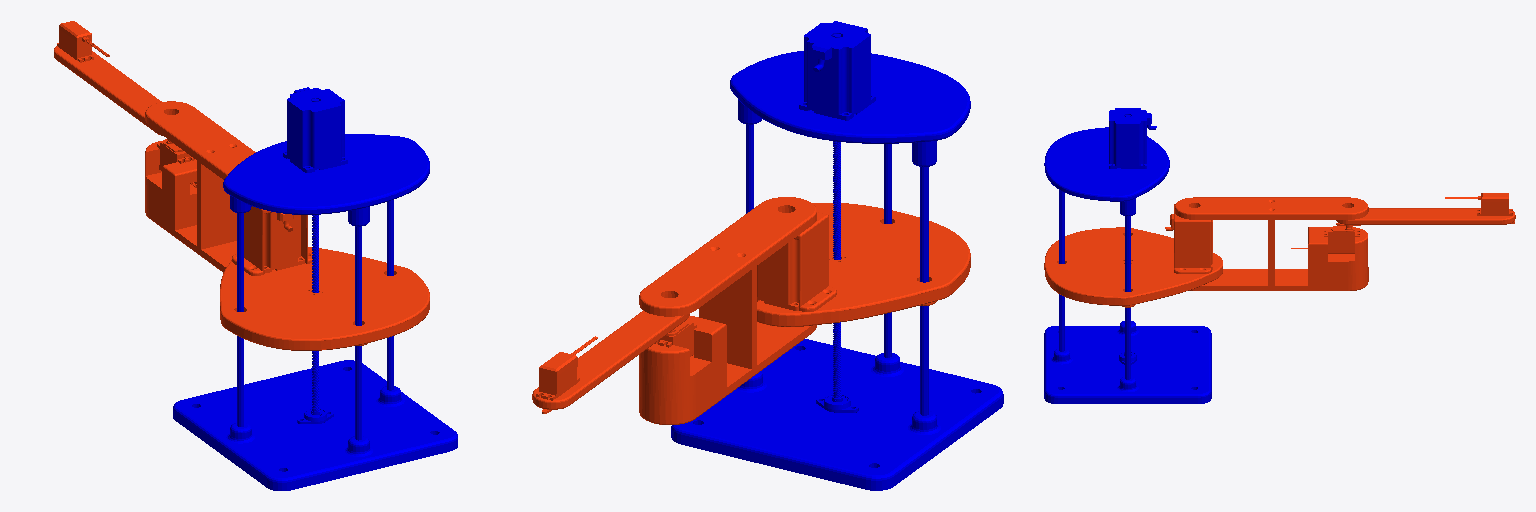
robot.urdf — robot:
<?xml version="1.0" ?>
<!-- =================================================================================== -->
<!-- |    This document was autogenerated by xacro from src/robu/urdf/example_robot.urdf.xacro | -->
<!-- |    EDITING THIS FILE BY HAND IS NOT RECOMMENDED                                 | -->
<!-- =================================================================================== -->
<robot name="robot">
  <!-- Material Definitions -->
  <material name="grey">
    <color rgba="0.2 0.2 0.2 1"/>
  </material>
  <material name="white">
    <color rgba="1 1 1 1"/>
  </material>
  <material name="orange">
    <color rgba="1 0.3 0.1 1"/>
  </material>
  <material name="blue">
    <color rgba="0 0 1 1"/>
  </material>
  <link name="world"/>
  <!-- base Joint -->
  <link name="base">
    <visual>
      <origin rpy="1.570796326795 0 0" xyz="0 0 0"/>
      <geometry>
        <mesh filename="package://robu/urdf/Z_Achse.stl" scale="0.01 0.01 0.01"/>
      </geometry>
      <material name="blue"/>
    </visual>
    <collision>
      <origin rpy="1.570796326795 0 0" xyz="0 0 2.1"/>
      <geometry>
        <box size="2.5 4.2 2.5"/>
      </geometry>
    </collision>
    <inertial>
      <origin rpy="0 0 0" xyz="0 0 0.05"/>
      <mass value="12"/>
      <inertia ixx="2.26" ixy="0.0" ixz="0.0" iyy="6.26" iyz="0.0" izz="8.5"/>
    </inertial>
  </link>
  <joint name="base_to_world" type="fixed">
    <parent link="world"/>
    <child link="base"/>
    <origin rpy="0 0 0" xyz="0 0 0"/>
  </joint>
  <!-- Z.Achse Segment Joint-->
  <link name="z_achse">
    <visual>
      <origin rpy="4.712388980385 3.14159265359 4.712388980385" xyz="0 0 0 "/>
      <geometry>
        <mesh filename="package://robu/urdf/1_Arm.stl" scale="0.01 0.01 0.01"/>
      </geometry>
      <material name="orange"/>
    </visual>
    <!-- -> Keine Collissions weil das Bauteil in der Z-Achse ist. -->
    <inertial>
      <origin rpy="0 0 0" xyz="0 0 0.05"/>
      <mass value="12"/>
      <inertia ixx="2.26" ixy="0.0" ixz="0.0" iyy="6.26" iyz="0.0" izz="8.5"/>
    </inertial>
  </link>
  <joint name="z_Achse_to_base" type="prismatic">
    <parent link="base"/>
    <child link="z_achse"/>
    <origin rpy="0 0 0" xyz="0 0 0"/>
    <axis xyz="0 0 1"/>
    <limit effort="100" lower="0.5" upper="3.03" velocity="0.1"/>
  </joint>
  <!-- 1 Arm Segment Joint-->
  <link name="1_arm">
    <visual>
      <origin rpy="4.712388980385 3.14159265359 4.712388980385" xyz="0 0 0 "/>
      <geometry>
        <mesh filename="package://robu/urdf/2_Arm.stl" scale="0.01 0.01 0.01"/>
      </geometry>
      <material name="orange"/>
    </visual>
    <collision>
      <origin rpy="1.570796326795 0 0" xyz="0 1 0.65"/>
      <geometry>
        <box size="1 1.35 3.25"/>
      </geometry>
    </collision>
    <inertial>
      <origin rpy="0 0 0" xyz="0 0 0.05"/>
      <mass value="12"/>
      <inertia ixx="2.26" ixy="0.0" ixz="0.0" iyy="6.26" iyz="0.0" izz="8.5"/>
    </inertial>
  </link>
  <joint name="z_achse_to_1_arm" type="revolute">
    <parent link="z_achse"/>
    <child link="1_arm"/>
    <origin rpy="0 0 0" xyz="0 1 -.35"/>
    <axis xyz="0 0 1"/>
    <limit effort="100" lower="-1.5" upper="1.5" velocity="0.1"/>
  </joint>
  <!-- 2 Arm Segment Joint-->
  <link name="2_arm">
    <visual>
      <origin rpy="4.712388980385 0 4.712388980385" xyz="0 0 0 "/>
      <geometry>
        <mesh filename="package://robu/urdf/3_Arm.stl" scale="0.01 0.01 0.01"/>
      </geometry>
      <material name="orange"/>
    </visual>
    <collision>
      <origin rpy="1.570796326795 0 0" xyz="0 1.4 .2"/>
      <geometry>
        <box size="1 .7 2.5"/>
      </geometry>
    </collision>
    <inertial>
      <origin rpy="0 0 0" xyz="0 0 0.05"/>
      <mass value="12"/>
      <inertia ixx="2.26" ixy="0.0" ixz="0.0" iyy="6.26" iyz="0.0" izz="8.5"/>
    </inertial>
  </link>
  <joint name="1_achse_to_2_arm" type="revolute">
    <parent link="1_arm"/>
    <child link="2_arm"/>
    <origin rpy="0 0 0" xyz="0 2.3 1.15"/>
    <axis xyz="0 0 1"/>
    <limit effort="100" lower="-2" upper="2" velocity="0.1"/>
  </joint>
  <!-- greifer Segment Joint-->
  <link name="greifer">
    <visual>
      <origin rpy="1.570796326795 0 4.712388980385" xyz="0 0 0 "/>
      <geometry>
        <mesh filename="package://robu/urdf/Greiferneu.stl" scale="0.01 0.01 0.01"/>
      </geometry>
      <material name="orange"/>
    </visual>
    <collision>
      <origin rpy="1.570796326795 0 0" xyz="0 0 -0.47"/>
      <geometry>
        <box size=".75 1 1"/>
      </geometry>
    </collision>
    <inertial>
      <origin rpy="0 0 0" xyz="0 0 0.05"/>
      <mass value="12"/>
      <inertia ixx="2.26" ixy="0.0" ixz="0.0" iyy="6.26" iyz="0.0" izz="8.5"/>
    </inertial>
  </link>
  <joint name="2_achse_to_greifer" type="continuous">
    <parent link="2_arm"/>
    <child link="greifer"/>
    <origin rpy="0 0 0" xyz="0 2.2 -0.19"/>
    <axis xyz="0 0 1"/>
  </joint>
  <!-- This file demonstrates the use of some <gazebo> tags -->
  <!-- To include it add the following line -->
  <!-- <xacro:include filename="example_gazebo.xacro" /> -->
  <!-- Gazebo is unable to use the same <material> tags that are already in the URDF (that RViz uses). -->
  <!-- Instead, we need to add gazebo tags for our links that refer to Gazebo materials -->
  <gazebo reference="world">
    <material>Gazebo/Green</material>
    <force_color>true</force_color>
  </gazebo>
  <gazebo reference="base">
    <material>Gazebo/Green</material>
    <force_color>true</force_color>
  </gazebo>
  <gazebo reference="z_achse">
    <material>Gazebo/Green</material>
    <force_color>true</force_color>
  </gazebo>
  <gazebo reference="1_arm">
    <material>Gazebo/Green</material>
  </gazebo>
  <gazebo reference="2_arm">
    <material>Gazebo/Green</material>
  </gazebo>
  <gazebo reference="greifer">
    <material>Gazebo/Green</material>
  </gazebo>
  <!-- Gazebo requires the use of plugins to interact with other systems such as ROS. -->
  <!-- This plugin will publish the joint_states for the selected joints 
            (which robot_state_publisher can then use to broadcast the approprate tf). -->
  <plugin filename="libgazebo_ros_joint_state_publisher.so" name="gazebo_ros_joint_state_publisher">
    <update_rate>20</update_rate>
    <joint_name>base_to_world</joint_name>
    <joint_name>z_Achse_to_base</joint_name>
    <joint_name>z_achse_to_1_arm</joint_name>
    <joint_name>1_achse_to_2_arm</joint_name>
    <joint_name>2_achse_to_greifer</joint_name>
  </plugin>
  <!-- This plugin will read a JointTrajectory message from the /set_joint_trajectory topic 
            and move the machine accordingly. It's a bit clunky but it works. -->
  <!-- You'll probably want to add damping to the joints to stop them it flopping around. 
            e.g. <dynamics damping="10.0" friction="10.0"/> -->
  <!-- Here's an example message to publish to test it:
            ros2 topic pub -1 /set_joint_trajectory trajectory_msgs/msg/JointTrajectory  '{header: {frame_id: world}, joint_names: [slider_joint, arm_joint], points: [  {positions: {0.8,0.6}} ]}' -->
  <gazebo>
    <plugin filename="libgazebo_ros_joint_pose_trajectory.so" name="gazebo_ros_joint_pose_trajectory">
      <update_rate>20</update_rate>
    </plugin>
  </gazebo>
  <!-- The next section shows an example of adding a sensor, in this case a depth camera. -->
  <!-- Due to a quirk of how cameras work, an extra joint/link is required to create an
            "optical frame" for the sensor. That isn't the focus for this tutorial, but you can
            look at https://www.ros.org/reps/rep-0103.html#suffix-frames for slightly more information. -->
  <!-- First, create the link and joint for the optical frame -->
  <!--
    <joint name="camera_optical_joint" type="fixed">
        <origin xyz="0 0 0" rpy="-1.571 0 -1.571" />
        <parent link="camera_link" />
        <child link="camera_link_optical" />
    </joint>

    <link name="camera_link_optical"></link>


    <! Add a gazebo tag for the ORIGINAL camera_link (but in the plugin we reference the optical frame so that ROS can orient things correctly) -->
  <!-- Within the gazebo tag we have the sensor tag, and inside that there is (among other things) the camera tag with the camera parameters, 
            and the plugin tag with some extra parameters the plugin needs. -->
  <!-- Note that although visualise is set to true, it won't actually visualise the depth camera in gazebo. To see the preview, 
            try swapping "depth" to "camera"
    
    <gazebo reference="camera_link">
        <sensor type="depth" name="my_camera">
            <update_rate>20</update_rate>
            <visualize>true</visualize>
            <camera name="cam">
                <horizontal_fov>1.3962634</horizontal_fov>
                <image>
                    <width>640</width>
                    <height>480</height>
                    <format>R8B8G8</format>
                </image>
                <clip>
                    <near>0.02</near>
                    <far>300</far>
                </clip>
                <noise>
                    <type>gaussian</type>
                    <mean>0.0</mean>
                    <stddev>0.007</stddev>
                </noise>
            </camera>
            <plugin name="camera_controller" filename="libgazebo_ros_camera.so">
                <frame_name>camera_link_optical</frame_name>
                <min_depth>0.1</min_depth>
                <max_depth>500</max_depth>
            </plugin>
        </sensor>
    </gazebo>
    -->
</robot>

--- What the picture shows (computed from the rendered views, not written in the file) ---
Views: 3 orthographic renders of the robot side by side, from view 1: azimuth 30°, elevation 25°; view 2: azimuth 150°, elevation 25°; view 3: azimuth 270°, elevation 25°.
Robot: robot — 6 links, 5 joints (2 revolute, 1 continuous, 1 prismatic, 1 fixed); root link world; default pose: all joints at 0 but 1 set to mid-range because 0 is outside their limits (z_Achse_to_base = 1.76).
Visible links, largest first — view 1: base, z_achse, 1_arm, 2_arm; view 2: base, 1_arm, z_achse, 2_arm; view 3: base, z_achse, 1_arm, 2_arm.
Boxes of the visible links, x1,y1,x2,y2 form: base: [173, 87, 457, 490]; z_achse: [220, 206, 429, 350]; 1_arm: [145, 101, 255, 272]; 2_arm: [54, 21, 170, 141]; base: [671, 21, 1003, 490]; 1_arm: [639, 197, 816, 424]; z_achse: [757, 203, 970, 326]; 2_arm: [532, 310, 689, 413]; base: [1044, 108, 1211, 403]; z_achse: [1044, 204, 1222, 307]; 1_arm: [1175, 197, 1368, 290]; 2_arm: [1336, 193, 1515, 227].
Size in the robot's own frame: 2.5 by 7.05 by 4.19 metres.
4 mesh visuals loaded from 5 distinct referenced files (4 binary STL); not drawn: 1 (reference not matched to a file when rendering).
